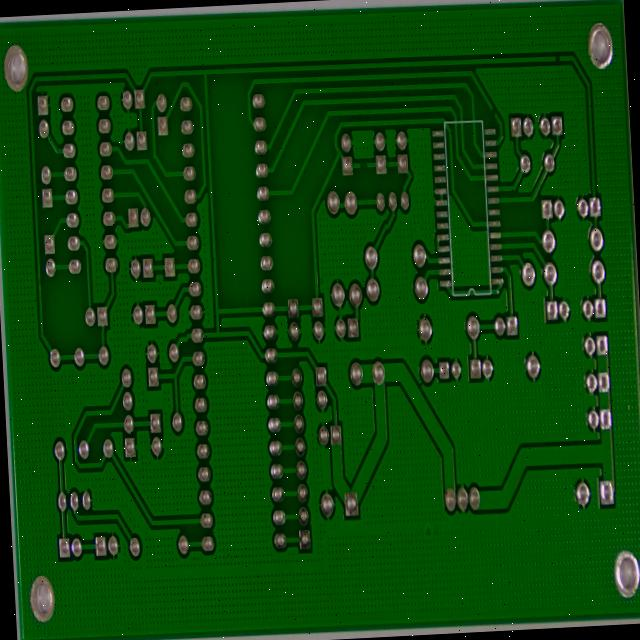open_circuit: (336, 51, 349, 70), (475, 0, 485, 3)
